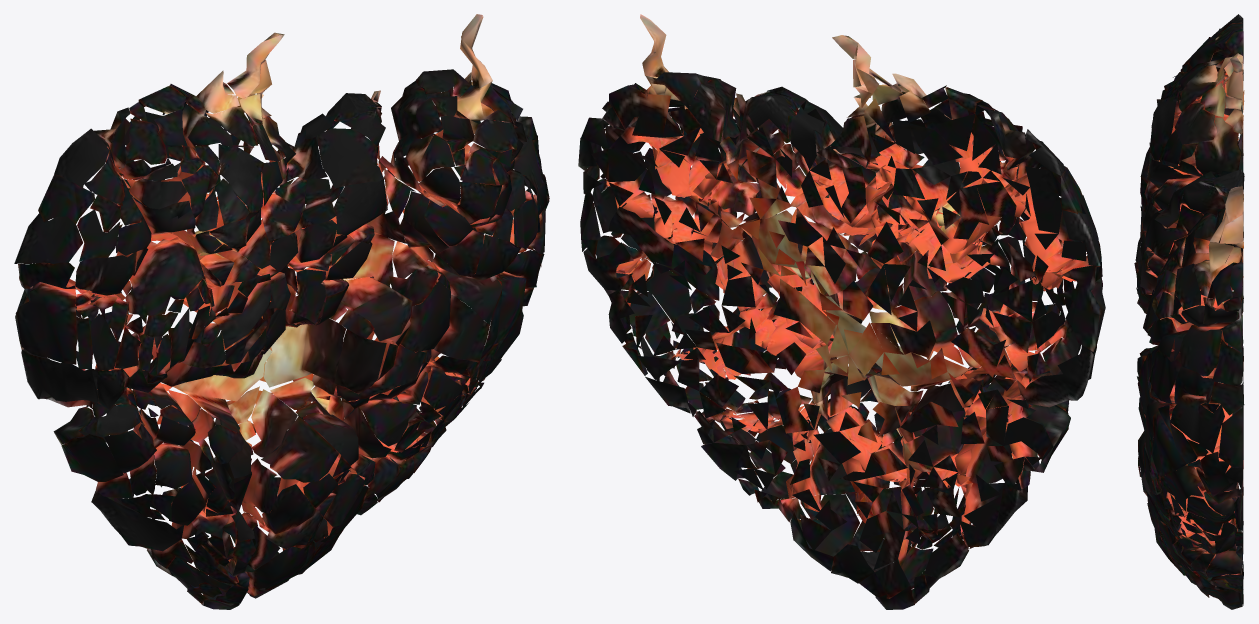
The model's file is cinderheart.glb.
3 renders of one model, left to right at view 1: azimuth 30°, elevation 25°; view 2: azimuth 150°, elevation 25°; view 3: azimuth 270°, elevation 25°, orthographic.
Visible parts, largest first — view 1: Cinderheart; view 2: Cinderheart; view 3: Cinderheart.
Part boxes in pixels (x1,y1,x2,y2): Cinderheart: (14,14,549,609); Cinderheart: (578,14,1105,609); Cinderheart: (1134,14,1244,609).
Size of the model in its own units: 0.2526 by 0.2601 by 0.0455.
Materials: 1 (1 with a texture image).
